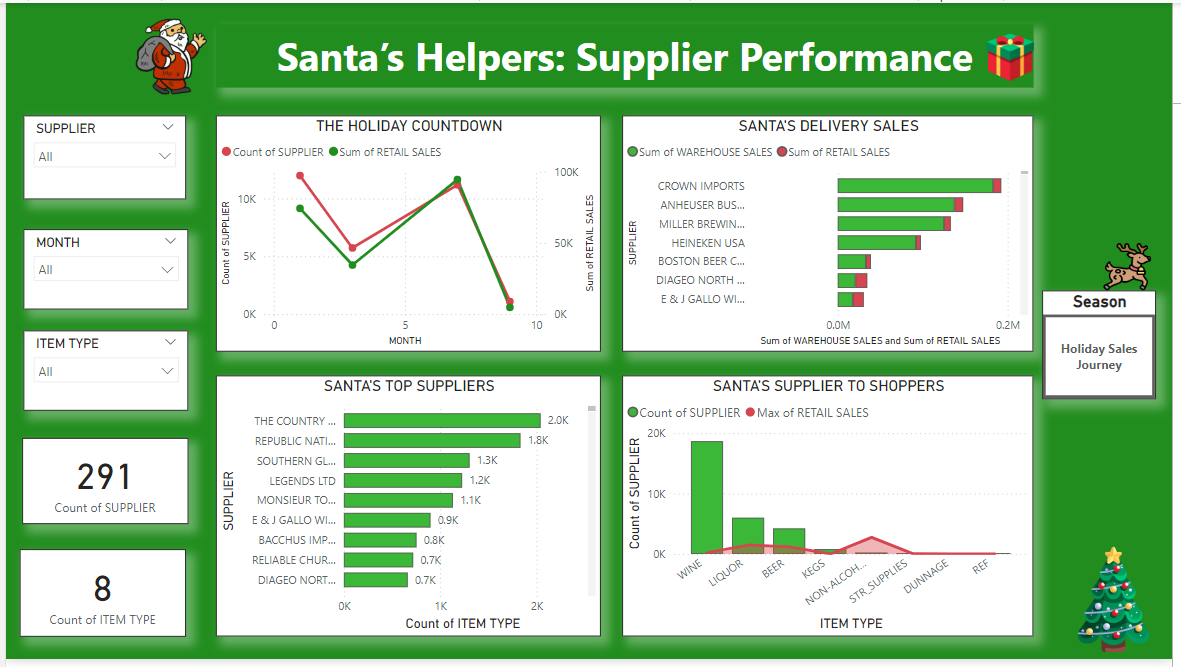

Layout of this report page (visuals, bound fields, positions):
{"tool":"powerbi","page":{"name":"Santa's Helpers","canvas":[1280,720],"ordinal":1},"visuals":[{"type":"barChart","title":"SANTA''S TOP SUPPLIERS","fields":{"Category":["Retail and wherehouse Sale.SUPPLIER"],"Y":["CountNonNull(Retail and wherehouse Sale.ITEM TYPE)"]},"box":[230.5,408.9,422.6,286.8],"z":0},{"type":"lineStackedColumnComboChart","title":"SANTA''S SUPPLIER TO SHOPPERS ","fields":{"Y2":["Max(Retail and wherehouse Sale.RETAIL SALES)"],"Y":["CountNonNull(Retail and wherehouse Sale.SUPPLIER)"],"Category":["Retail and wherehouse Sale.ITEM TYPE"]},"box":[676.5,408.9,451.5,286.8],"z":1000},{"type":"barChart","title":"SANTA''S DELIVERY SALES","fields":{"Category":["Retail and wherehouse Sale.SUPPLIER"],"Y":["Sum(Retail and wherehouse Sale.WAREHOUSE SALES)","Sum(Retail and wherehouse Sale.RETAIL SALES)"]},"box":[676.5,123.5,451.5,259.3],"z":2000},{"type":"lineChart","title":"THE HOLIDAY COUNTDOWN","fields":{"Category":["Retail and wherehouse Sale.MONTH"],"Y2":["Sum(Retail and wherehouse Sale.RETAIL SALES)"],"Y":["CountNonNull(Retail and wherehouse Sale.SUPPLIER)"]},"box":[230.5,123.5,422.6,259.3],"z":3000},{"type":"slicer","fields":{"Values":["Retail and wherehouse Sale.SUPPLIER"]},"box":[19.2,123.5,178.4,91.9],"z":4000},{"type":"slicer","fields":{"Values":["Retail and wherehouse Sale.MONTH"]},"box":[19.2,248.4,181.1,87.8],"z":5000},{"type":"slicer","fields":{"Values":["Retail and wherehouse Sale.ITEM TYPE"]},"box":[19.2,359.5,181.1,87.8],"z":6000},{"type":"card","fields":{"Values":["Count(Retail and wherehouse Sale.SUPPLIER)"]},"box":[17.8,477.5,182.5,94.7],"z":7000},{"type":"card","fields":{"Values":["Count(Retail and wherehouse Sale.ITEM TYPE)"]},"box":[15.1,599.7,182.5,96.1],"z":8000},{"type":"actionButton","title":"Season","box":[1137.6,315.6,124.9,119.4],"z":9000},{"type":"textbox","box":[230.5,23.3,897.4,70],"z":10000},{"type":"image","box":[1067.6,28.8,70,61.7],"z":11000},{"type":"image","box":[1199.3,253.9,63.1,71.4],"z":12000},{"type":"image","box":[1151.3,588.7,129,131.7],"z":13000},{"type":"image","box":[131.7,12.3,98.8,93.3],"z":14000}]}

Visuals, with their boxes in screenshot pixels (x1, y1, x2, y2), scaled from the page's 1280x720 canvas onto the 1181x667 screenshot:
"SANTA''S TOP SUPPLIERS" barChart: 213/379/603/644
"SANTA''S SUPPLIER TO SHOPPERS " lineStackedColumnComboChart: 624/379/1041/644
"SANTA''S DELIVERY SALES" barChart: 624/114/1041/355
"THE HOLIDAY COUNTDOWN" lineChart: 213/114/603/355
slicer - Retail and wherehouse Sale.SUPPLIER: 18/114/182/200
slicer - Retail and wherehouse Sale.MONTH: 18/230/185/311
slicer - Retail and wherehouse Sale.ITEM TYPE: 18/333/185/414
card - Count(Retail and wherehouse Sale.SUPPLIER): 16/442/185/530
card - Count(Retail and wherehouse Sale.ITEM TYPE): 14/556/182/645
"Season" actionButton: 1050/292/1165/403
textbox: 213/22/1041/86
image: 985/27/1050/84
image: 1107/235/1165/301
image: 1062/545/1180/666
image: 122/11/213/98
